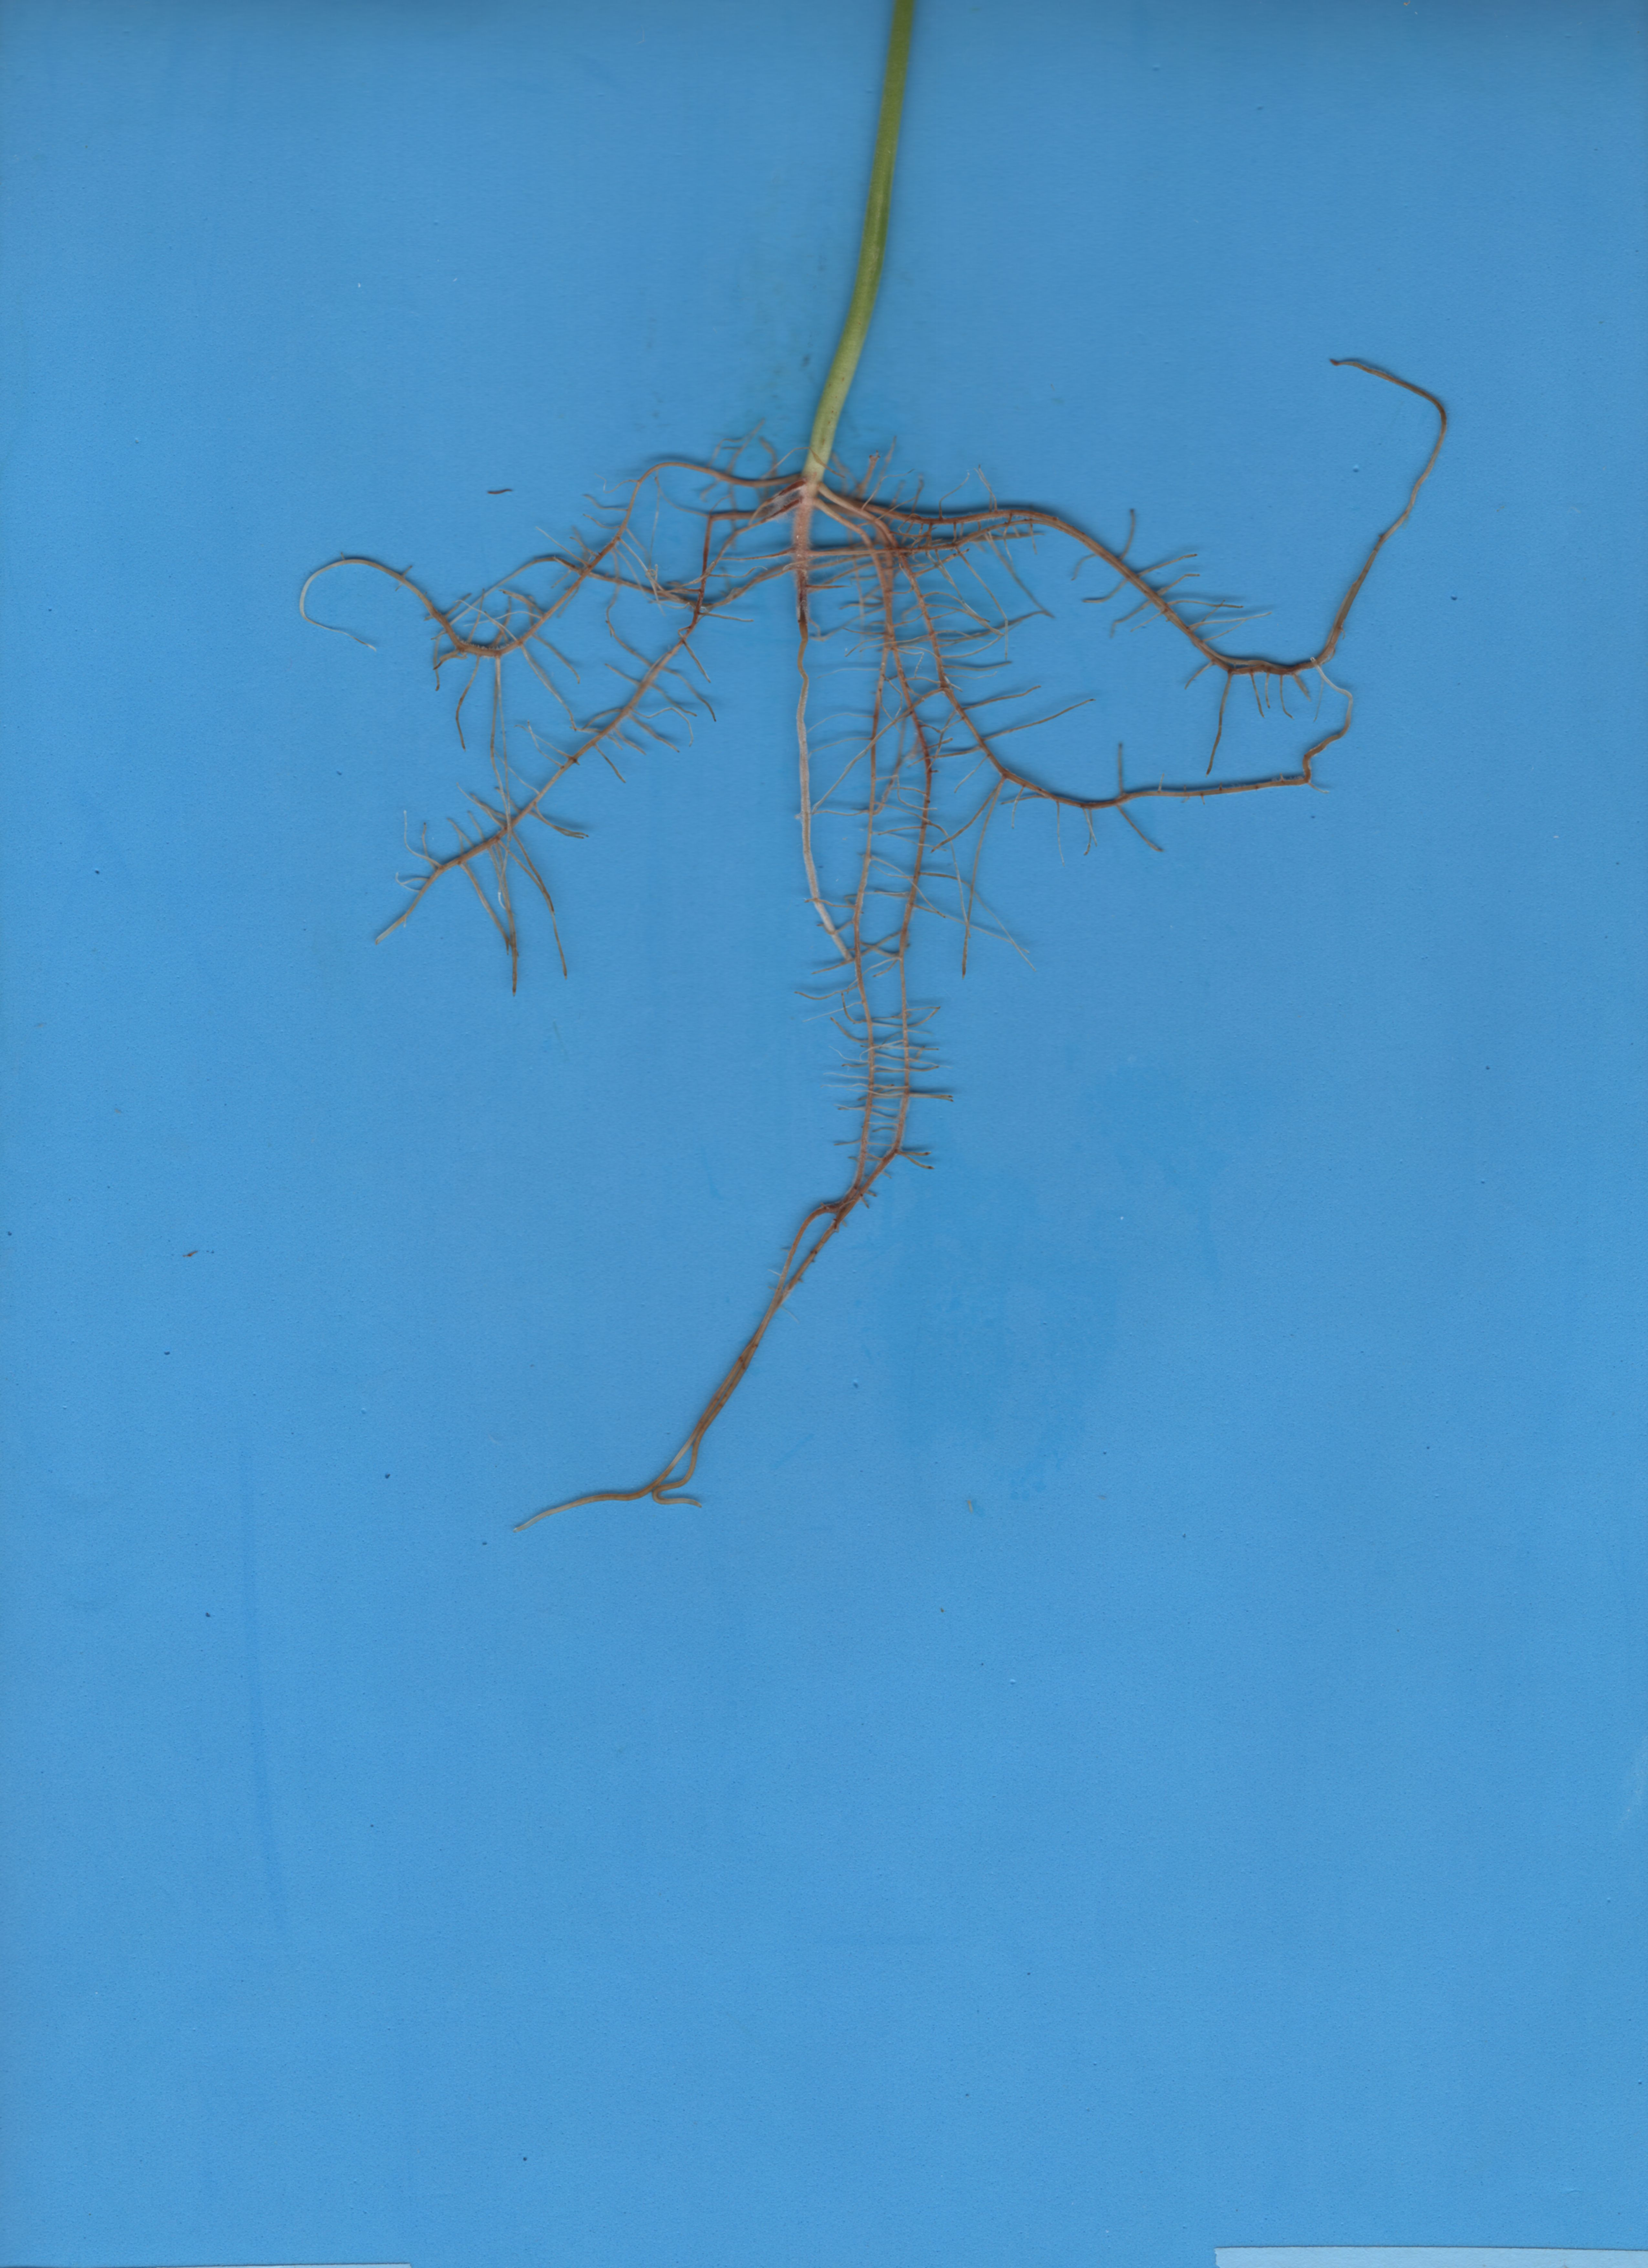CROWNGOOD: (798, 5, 942, 505)
ROOTDISEASE: (324, 424, 1519, 1502)
